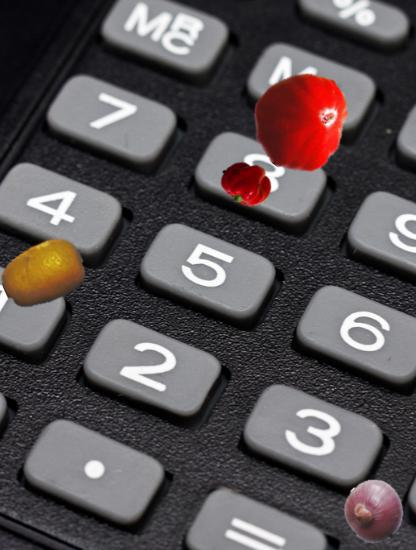Kumquats: (1, 232, 86, 317)
Onion: (343, 480, 406, 543)
Pepper: (222, 158, 273, 209)
Tomato: (250, 69, 353, 172)
